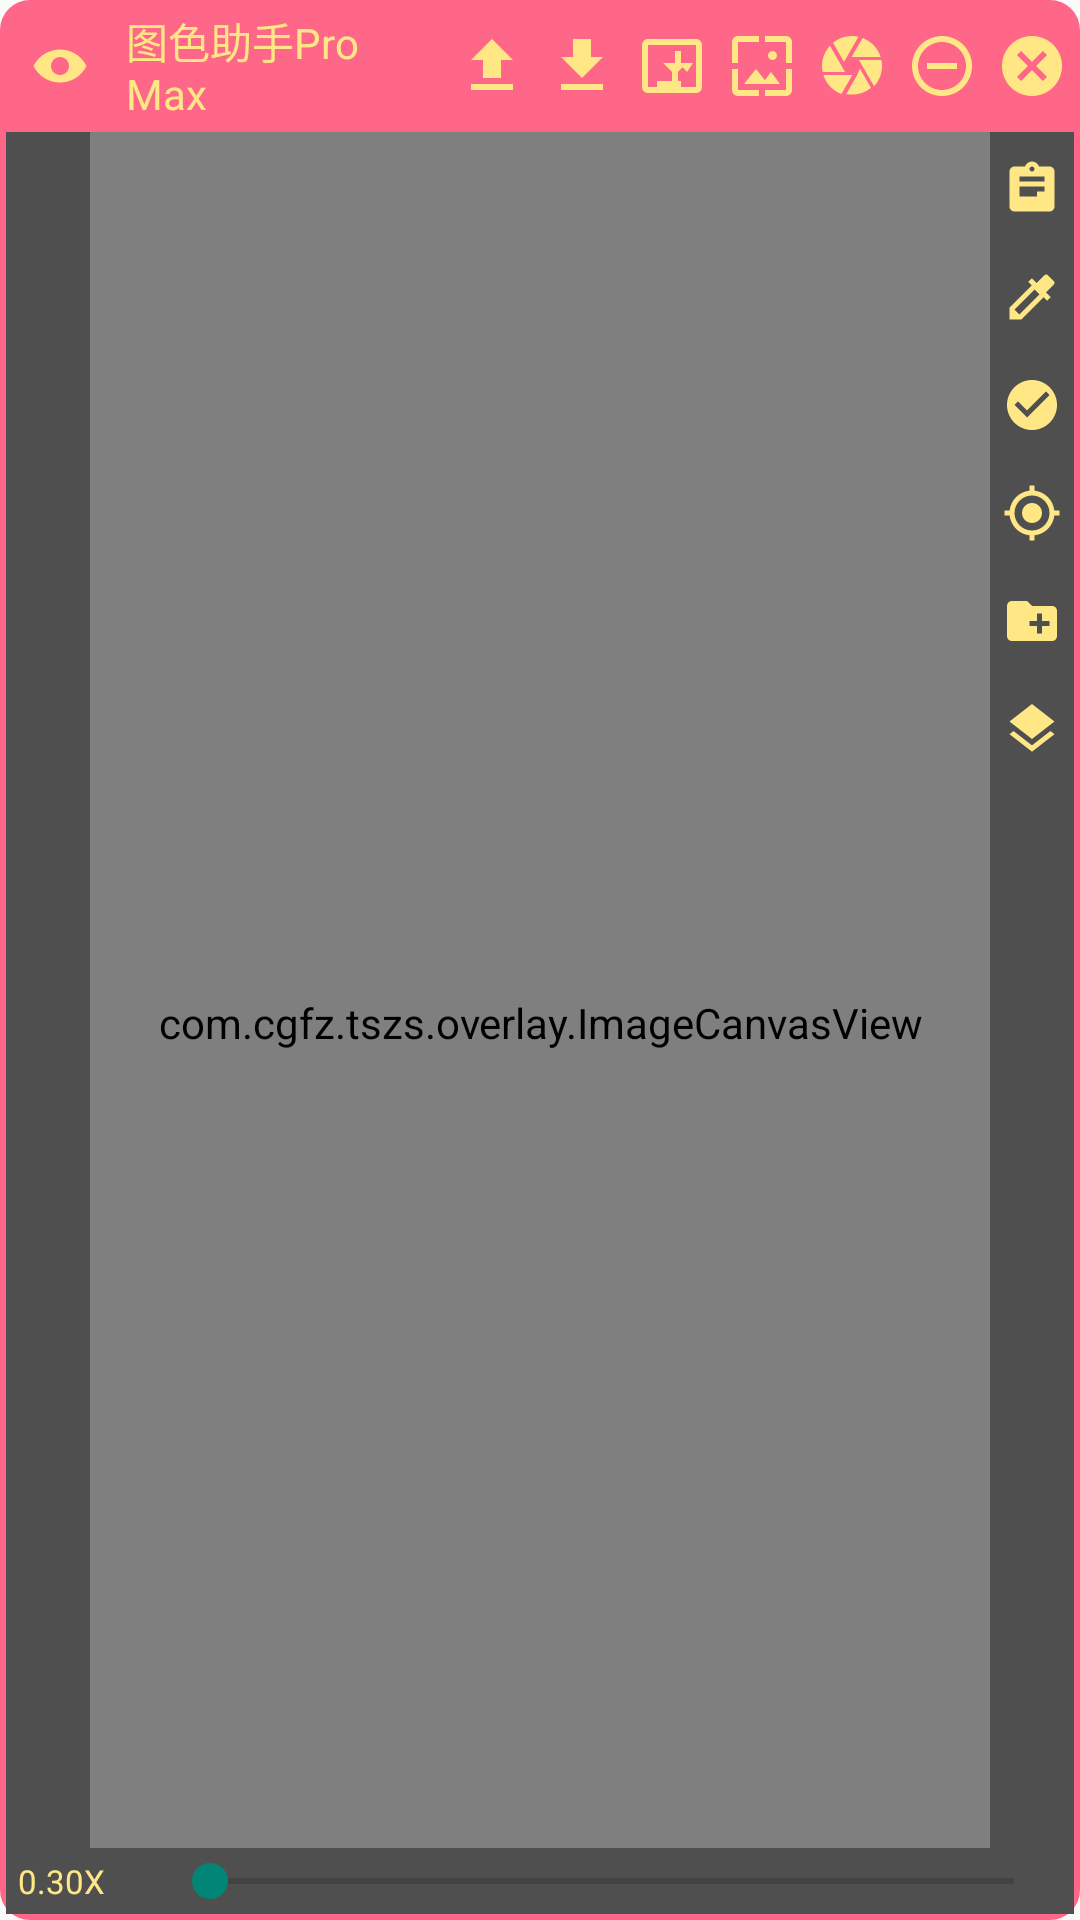

Icon click points for this 1080x1920 phone screenshot, format (x=x, y=y):
assignment: (x=1032, y=186)
camera: (x=852, y=65)
check: (x=1032, y=405)
close: (x=1032, y=66)
colorize: (x=1032, y=297)
download: (x=582, y=64)
folder plus: (x=1032, y=621)
layers: (x=1032, y=728)
remove: (x=942, y=66)
target: (x=1032, y=513)
upload: (x=492, y=64)
